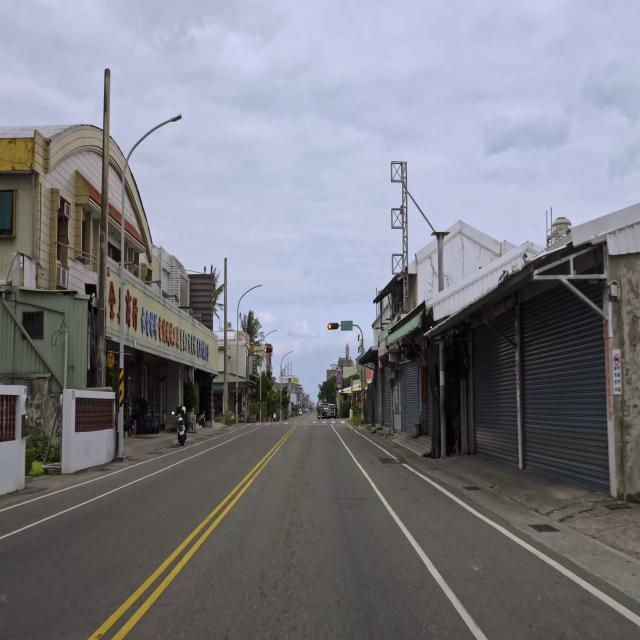red light: (327, 323, 339, 330), (264, 347, 273, 353)
